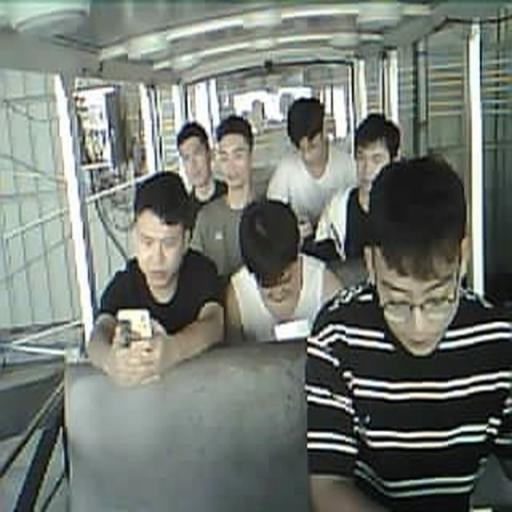persona: (304, 154, 512, 511), (88, 170, 226, 388), (225, 198, 345, 344), (311, 112, 402, 286), (265, 96, 358, 243), (188, 115, 263, 284), (176, 120, 228, 223)
